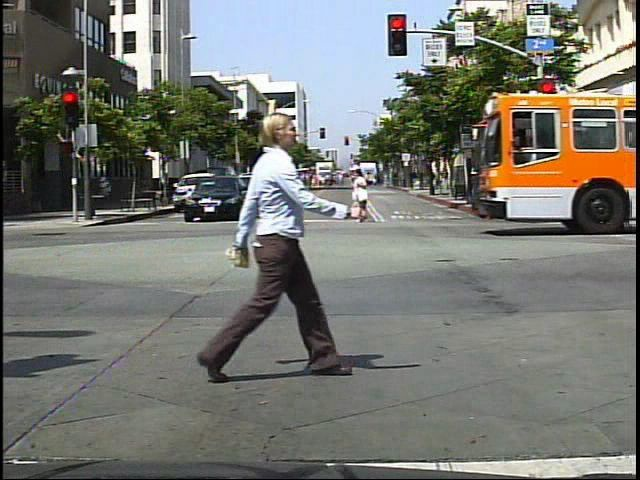person: (193, 90, 349, 389), (274, 164, 308, 236), (263, 168, 292, 228), (348, 165, 378, 219), (551, 160, 574, 211)
